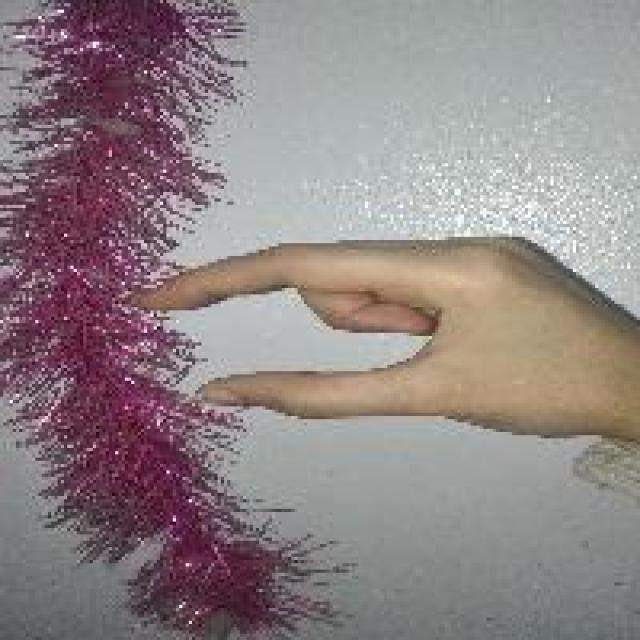Q: (121, 228, 640, 446)
